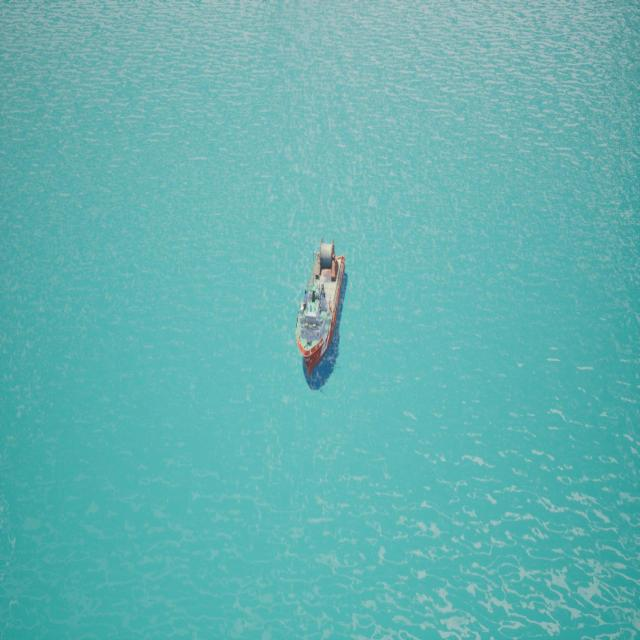tug boat: (272, 212, 373, 397)
